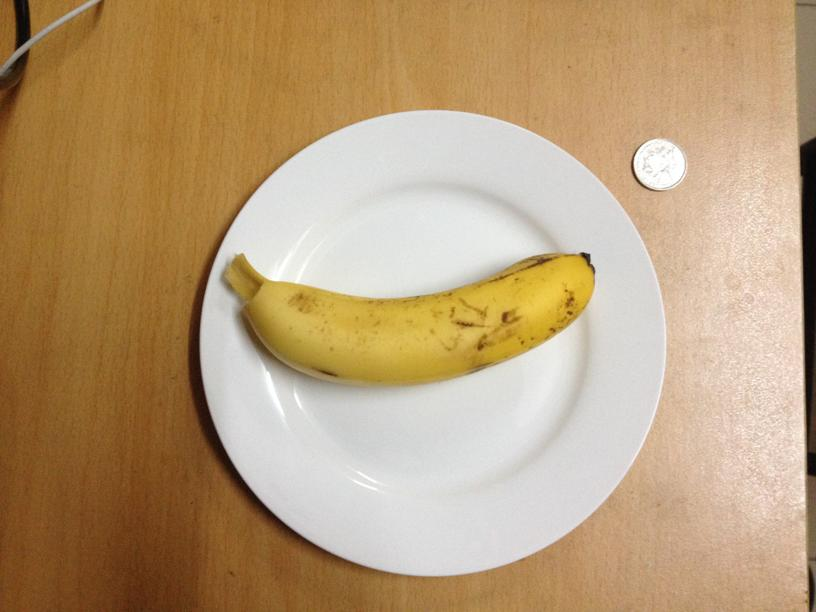banana: (220, 246, 598, 389)
coin: (630, 137, 687, 192)
